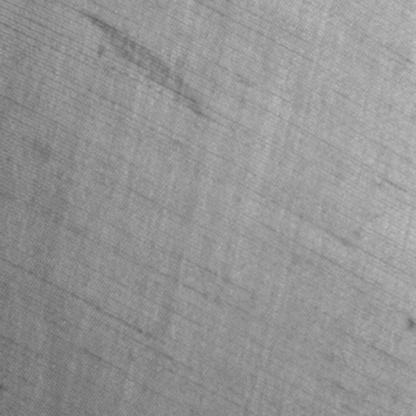oil spot: (81, 8, 210, 122)
